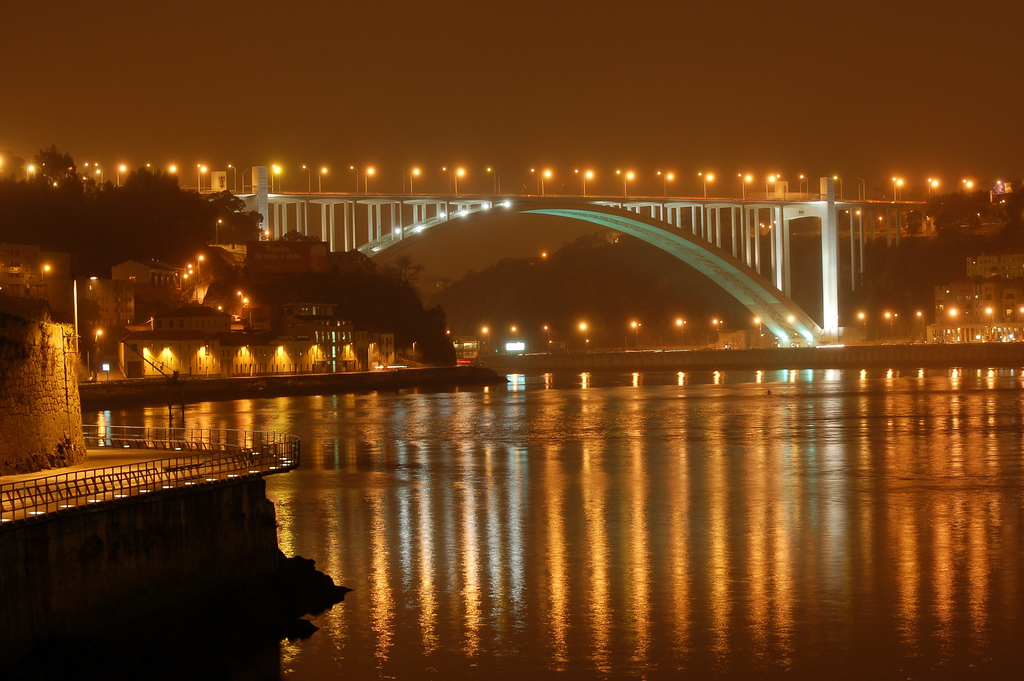arrabida: (205, 161, 932, 351)
